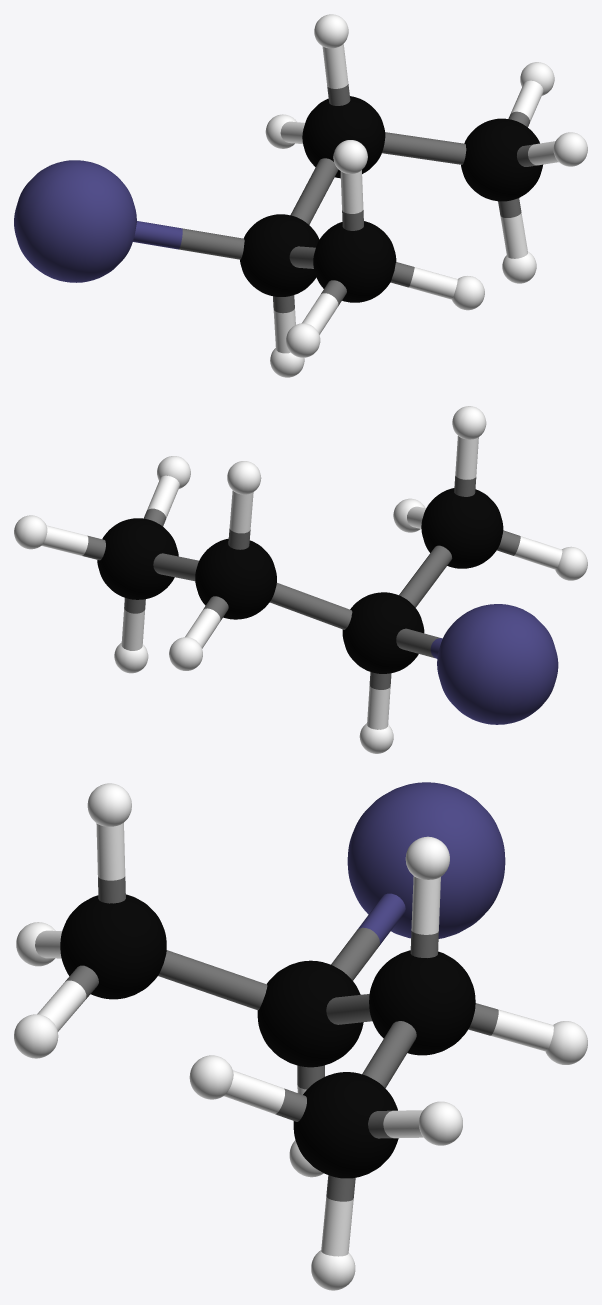
File: 2-bromobutane.glb
3 views of the same model, one above another, from view 1: azimuth 30°, elevation 25°; view 2: azimuth 150°, elevation 25°; view 3: azimuth 270°, elevation 25° (orthographic). The views are drawn at different scales.
Visible parts, largest first — view 1: Bromine_sticks_cylinder.015; view 2: Bromine_sticks_cylinder.015; view 3: Bromine_sticks_cylinder.015.
Boxes of the visible parts, x1,y1,x2,y2 form: Bromine_sticks_cylinder.015: (14, 14, 587, 377); Bromine_sticks_cylinder.015: (14, 406, 587, 753); Bromine_sticks_cylinder.015: (14, 782, 587, 1290).
Size of the model in its own units: 5.75 by 3.13 by 4.15.
